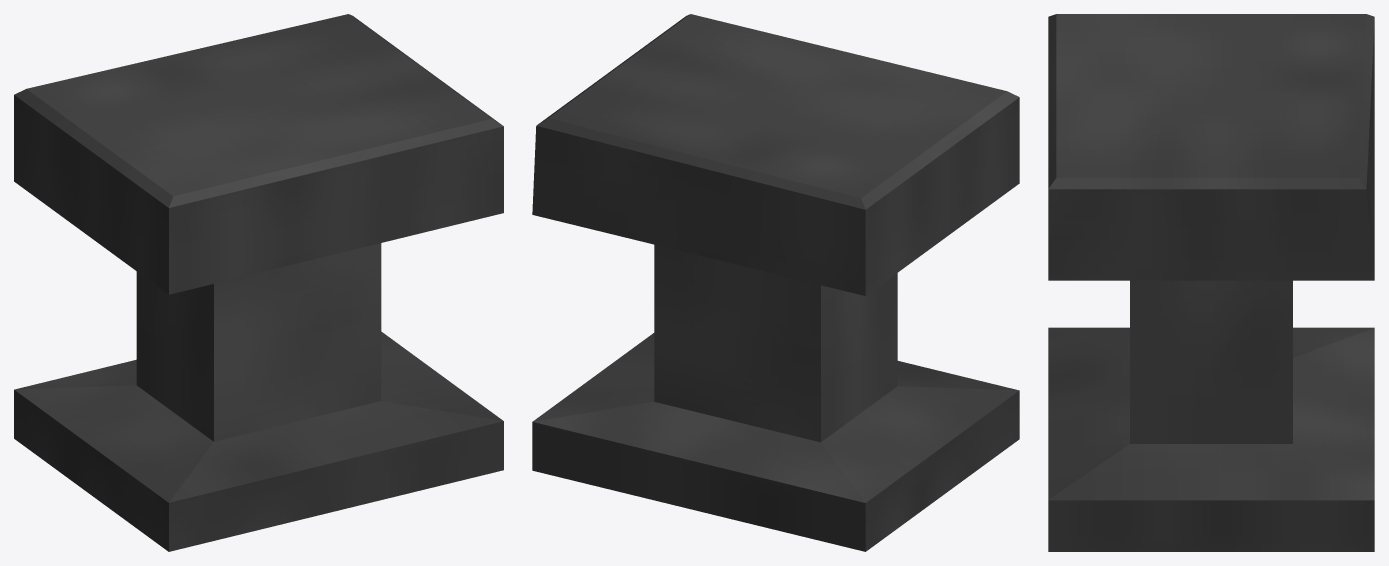
The model's file is BlockModel.obj.
3 renders of one model, left to right at view 1: azimuth 30°, elevation 25°; view 2: azimuth 150°, elevation 25°; view 3: azimuth 270°, elevation 25°, orthographic. The views are drawn at different scales.
Visible parts, largest first — view 1: Cube_Anvil; view 2: Cube_Anvil; view 3: Cube_Anvil.
Part boxes in pixels (bbox=[...]): Cube_Anvil: bbox=[14, 14, 503, 551]; Cube_Anvil: bbox=[532, 14, 1019, 551]; Cube_Anvil: bbox=[1048, 14, 1374, 551].
Bounding box in the file's own units: 1 × 1 × 0.8.
